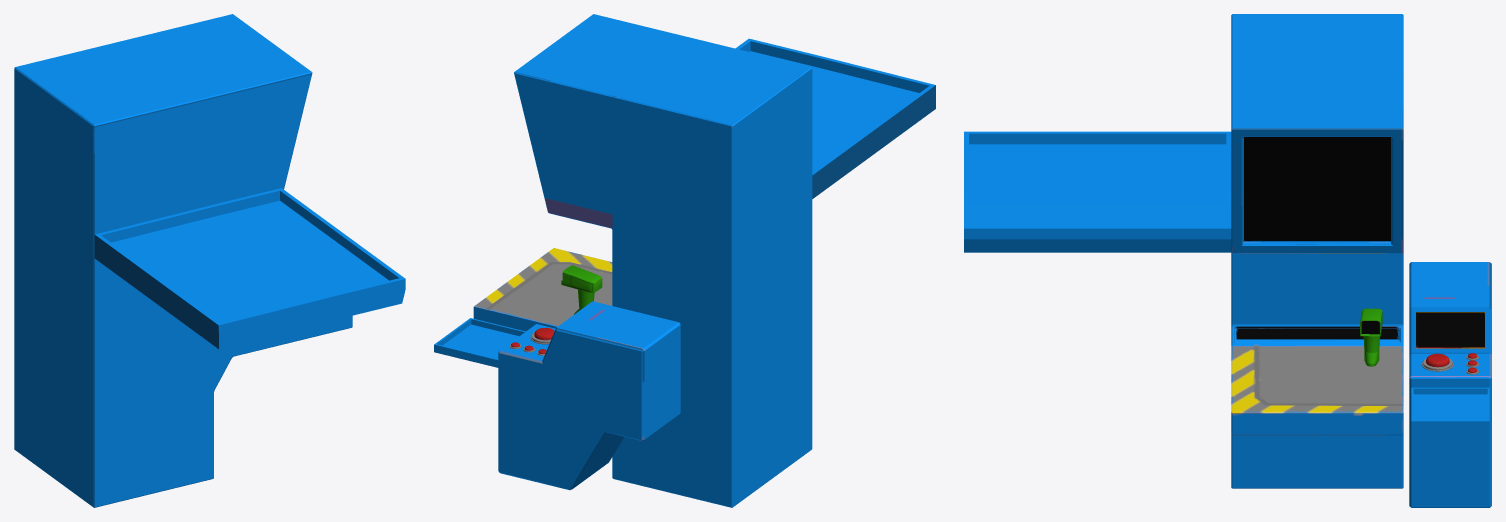
The model's file is mail_2 (3).fbx.
3 renders of one model, left to right at view 1: azimuth 30°, elevation 25°; view 2: azimuth 150°, elevation 25°; view 3: azimuth 270°, elevation 25°, orthographic. The views are drawn at different scales.
Parts seen in each view (by area): view 1: Cube.002; view 2: Cube.002, Cube.004, Cube.005; view 3: Cube.002, Cube.004, Cube.005.
Boxes of the visible parts, <box> form: Cube.002: <box>14,14,405,507</box>; Cube.002: <box>473,14,935,507</box>; Cube.004: <box>434,301,680,490</box>; Cube.005: <box>561,265,602,292</box>; Cube.002: <box>964,14,1403,488</box>; Cube.004: <box>1409,262,1491,507</box>; Cube.005: <box>1360,308,1382,336</box>.
Size of the model in its own units: 183 by 258 by 299.
